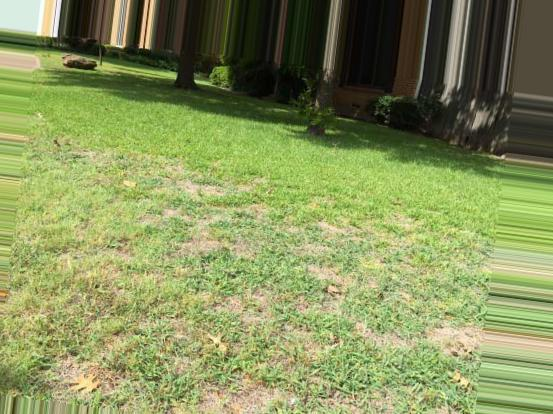patch: (355, 284, 404, 344), (161, 212, 232, 247), (240, 193, 300, 231), (67, 353, 128, 390), (207, 380, 276, 406), (386, 241, 433, 277), (165, 162, 215, 193), (305, 242, 340, 275), (378, 206, 416, 233), (466, 237, 488, 282), (331, 216, 365, 238), (213, 289, 241, 310), (281, 318, 307, 336), (8, 53, 25, 65)
